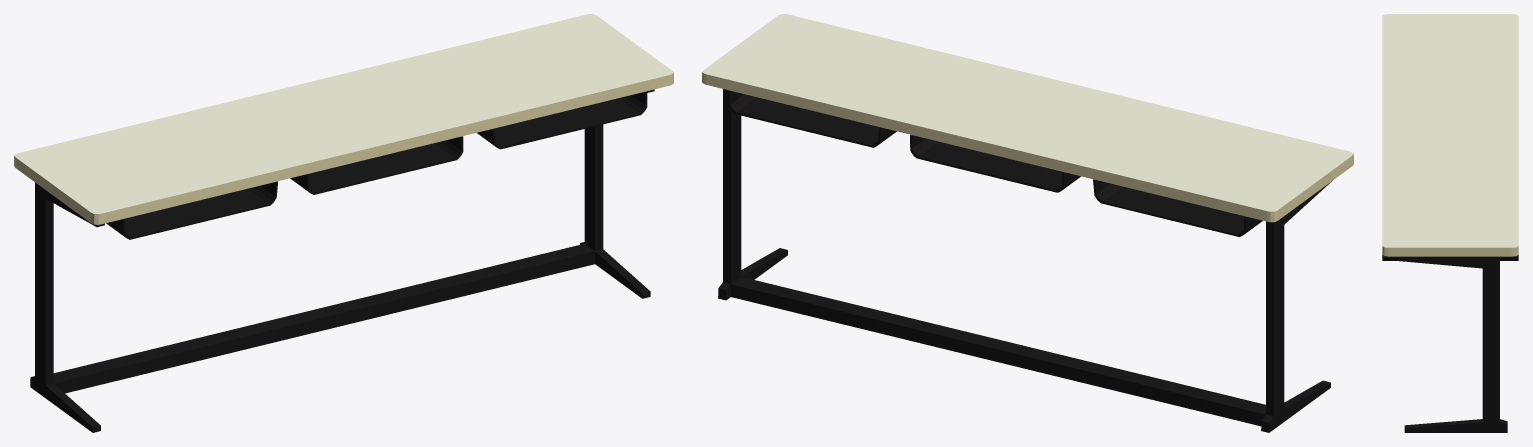
File: LongDesk.fbx
3 views of the same model, side by side, from view 1: azimuth 30°, elevation 25°; view 2: azimuth 150°, elevation 25°; view 3: azimuth 270°, elevation 25° (orthographic). The views are drawn at different scales.
Visible parts, largest first — view 1: 平面.004, 立方体.006, 平面.005; view 2: 平面.004, 立方体.006, 平面.005; view 3: 平面.004, 立方体.006, 平面.005.
Boxes of the visible parts, x1,y1,x2,y2 form: 平面.004: (14,14,673,224); 立方体.006: (30,89,654,432); 平面.005: (106,91,647,239); 平面.004: (702,14,1353,222); 立方体.006: (718,89,1331,432); 平面.005: (728,90,1262,236); 平面.004: (1382,14,1518,256); 立方体.006: (1398,256,1507,432); 平面.005: (1382,255,1518,260).
Size of the model in its own units: 810 by 307 by 200.
